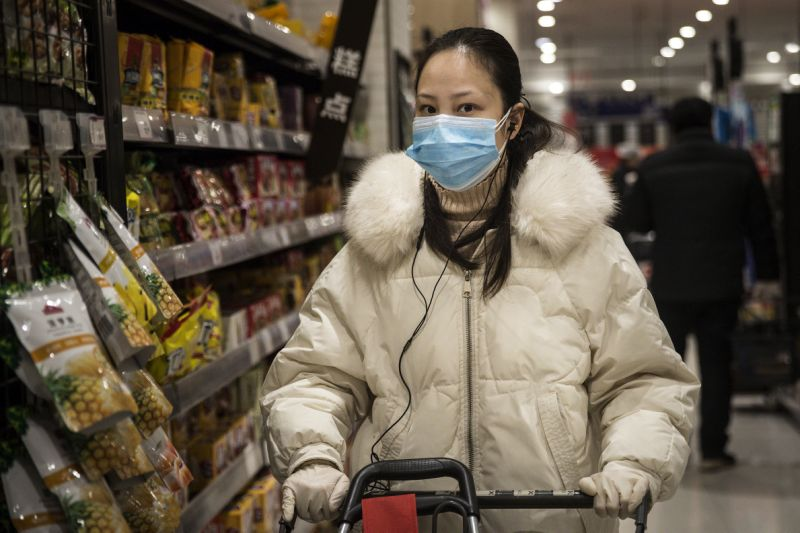surgical: (403, 114, 515, 194)
